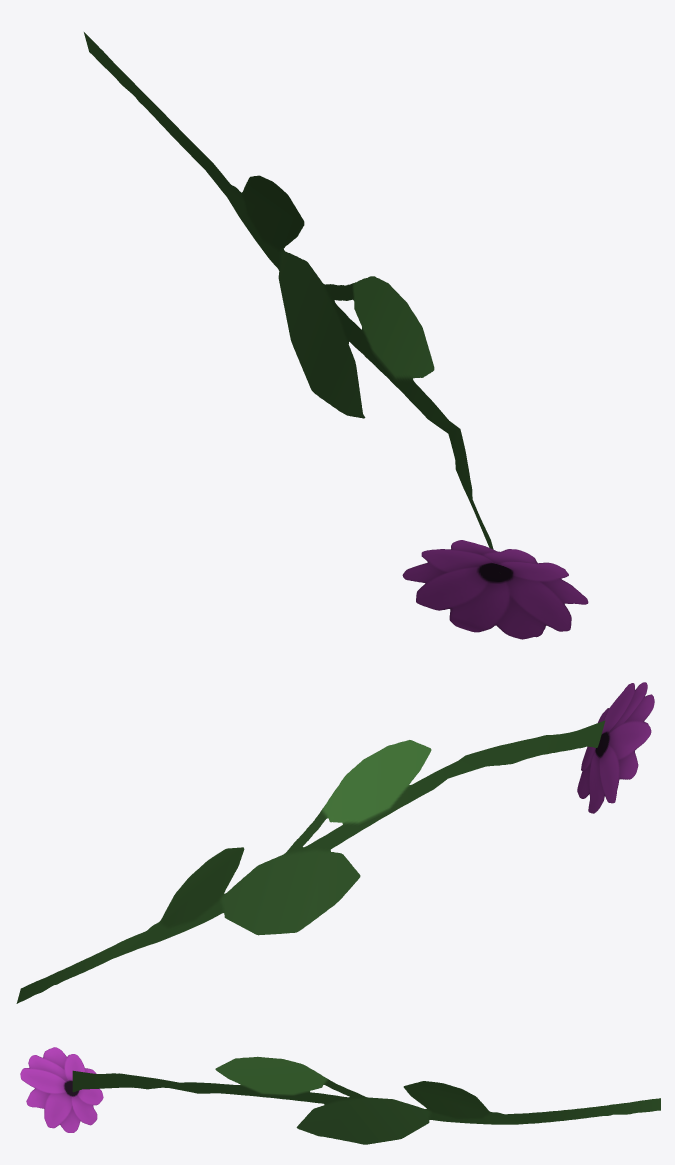
Rendered from Bloemen-los-klein-roze.dae.
3 views of the same model, one above another, from view 1: azimuth 30°, elevation 25°; view 2: azimuth 150°, elevation 25°; view 3: azimuth 270°, elevation 25° (orthographic). The views are drawn at different scales.
Visible parts, largest first — view 1: Bloemen_Small_Single_geo; view 2: Bloemen_Small_Single_geo; view 3: Bloemen_Small_Single_geo.
Boxes of the visible parts, box(x1,y1,x2,y2) form: Bloemen_Small_Single_geo: box(84, 32, 588, 639); Bloemen_Small_Single_geo: box(16, 682, 654, 1003); Bloemen_Small_Single_geo: box(20, 1047, 660, 1144).
Size of the model in its own units: 7.09 by 5.57 by 30.21.
1 material, 1 textured.
